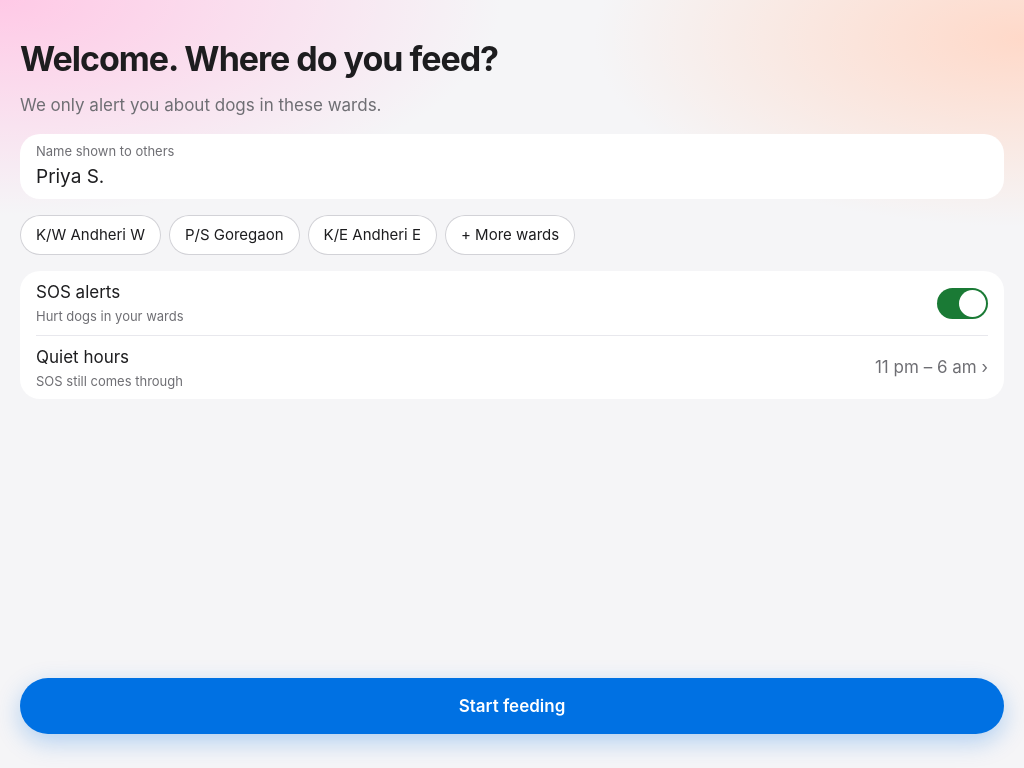
Test case: WelcomePage › shows the API's message when saving fails
Click the button "Start feeding" at (512, 706), box [20,678,1004,734]
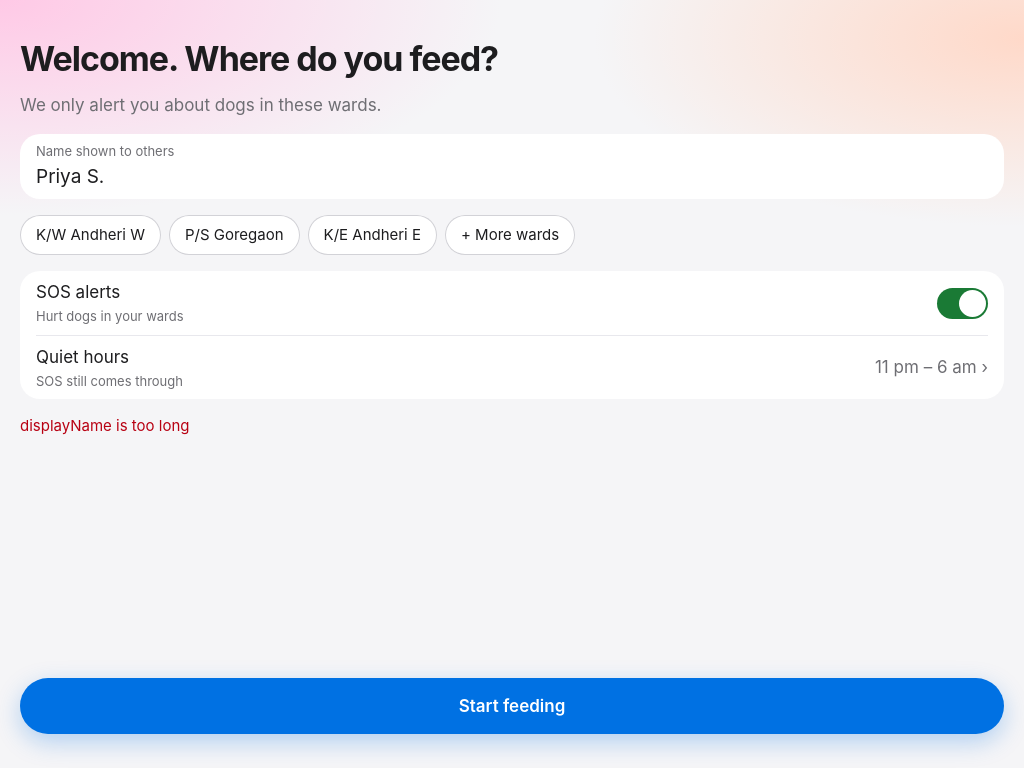
Now the message reads "displayName is too long", box [20,416,190,435]
